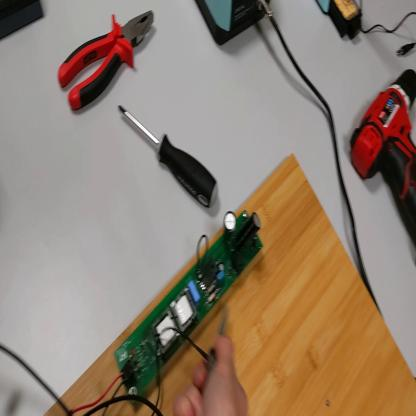electric screwdriver: (350, 68, 416, 245)
hand: (174, 333, 248, 413)
high voltage board: (70, 209, 261, 416)
oscilloscope probe tip: (203, 302, 230, 373)
pliers: (60, 11, 158, 116)
screwdriver-: (118, 103, 220, 209)
welder base: (317, 1, 365, 46)
welder station: (195, 2, 272, 48)
working area: (45, 145, 415, 415)
